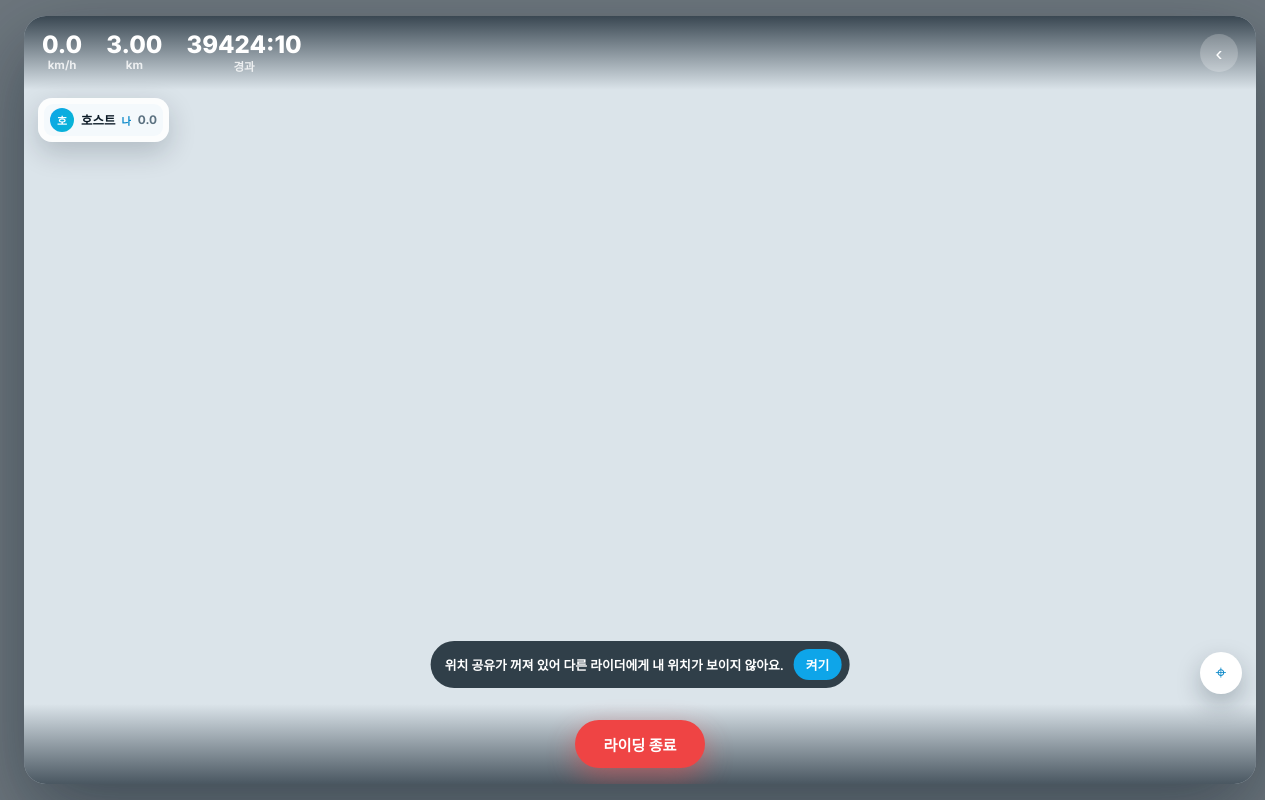
Test case: 방장 종료가 실패하면 기록을 저장하지 않고 오류를 보여주며, 다시 누르면 한 번 저장한다
Click the button "라이딩 종료" at (640, 744), box [575, 720, 705, 768]
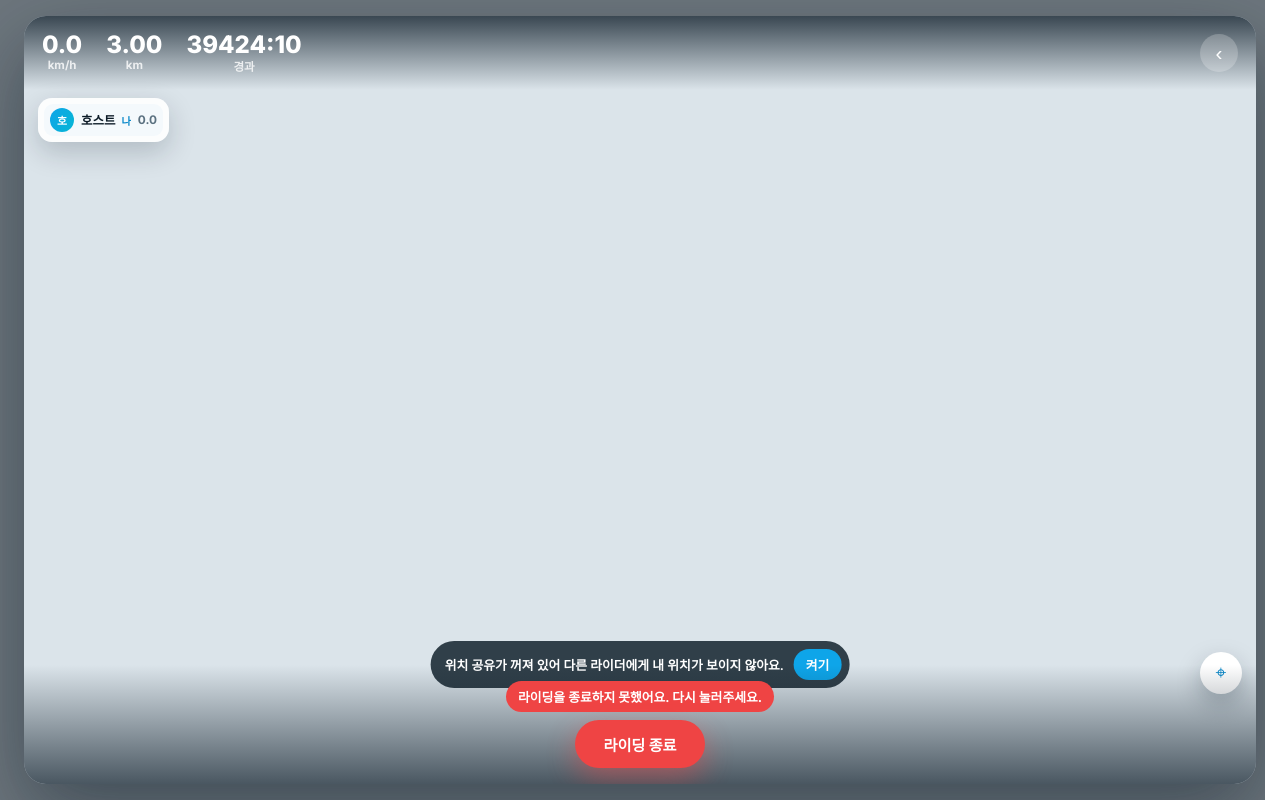
Expected: the text "라이딩을 종료하지 못했어요. 다시 눌러주세요." is shown, [506, 681, 774, 712]
Click the button "라이딩 종료" at (640, 744), box [575, 720, 705, 768]
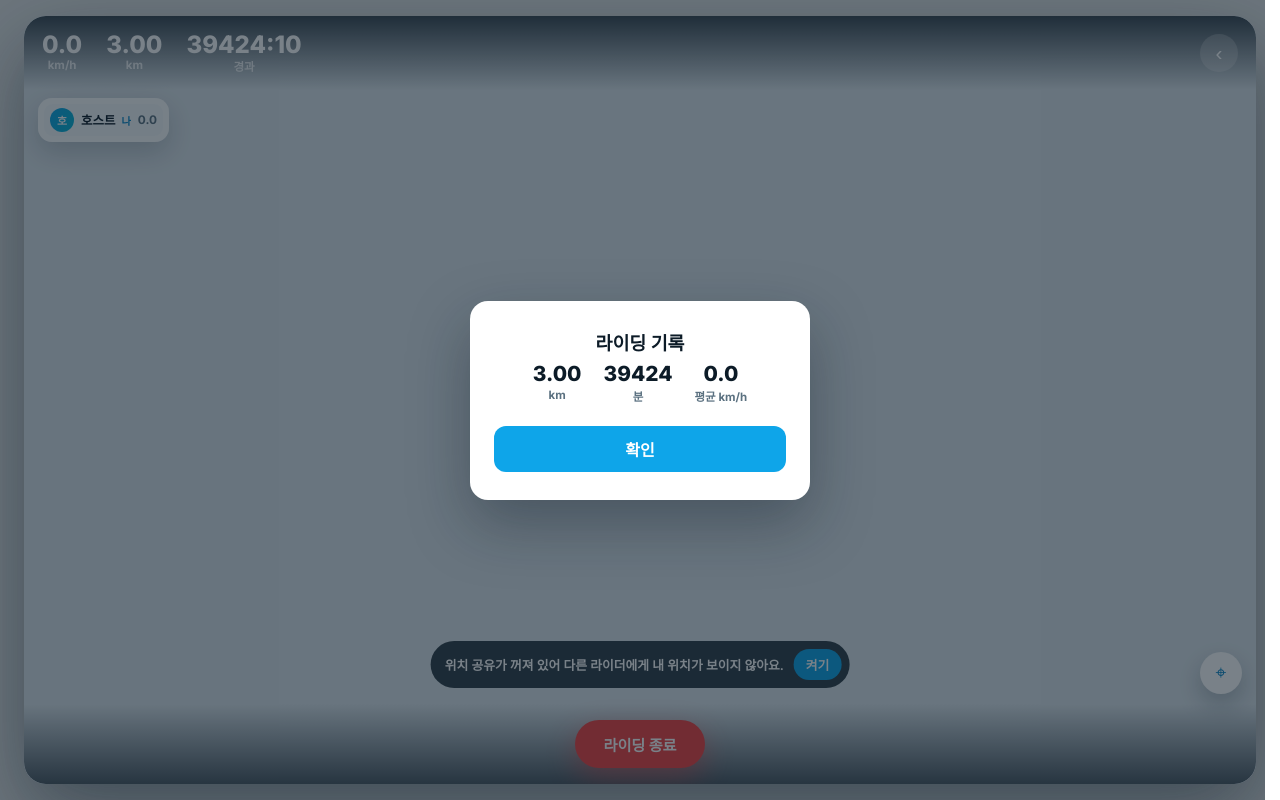
Expected: the heading "라이딩 기록" is shown, [596, 332, 684, 354]
